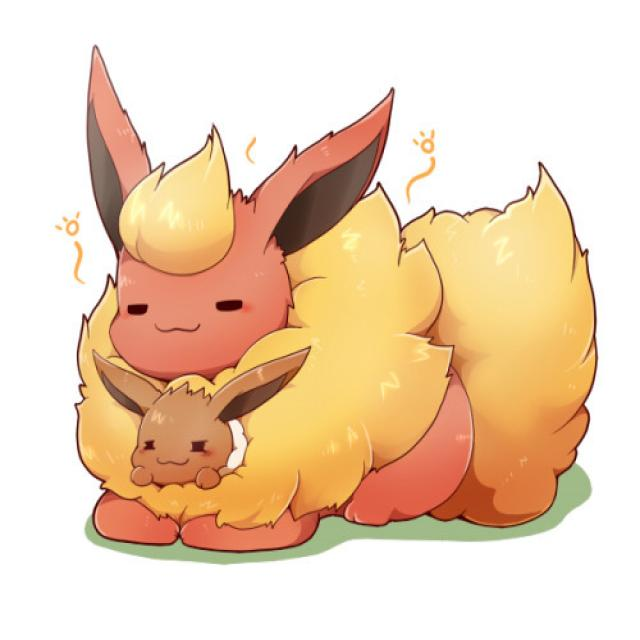Eevee: (88, 339, 318, 494)
Flareon: (76, 136, 478, 547)
